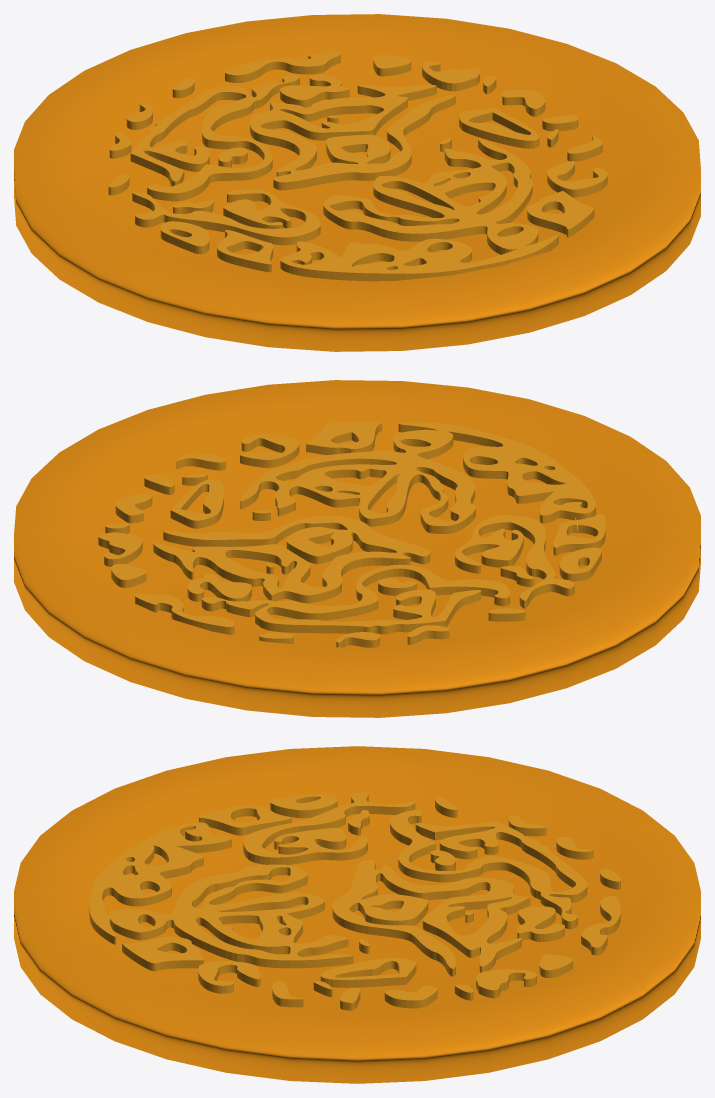
File: SM_Coin_08(balqis).fbx
3 renders of one model, top to bottom at view 1: azimuth 30°, elevation 25°; view 2: azimuth 150°, elevation 25°; view 3: azimuth 270°, elevation 25°, orthographic.
Parts seen in each view (by area): view 1: T.coin08, m.coin08; view 2: T.coin08, m.coin08; view 3: T.coin08, m.coin08.
Part boxes in pixels (bbox=[...]): T.coin08: bbox=[14, 14, 700, 351]; m.coin08: bbox=[108, 52, 607, 281]; T.coin08: bbox=[14, 380, 700, 717]; m.coin08: bbox=[98, 422, 605, 647]; T.coin08: bbox=[14, 746, 700, 1083]; m.coin08: bbox=[89, 791, 620, 1010].
Bounding box in the file's own units: 4600 × 360 × 4600.
